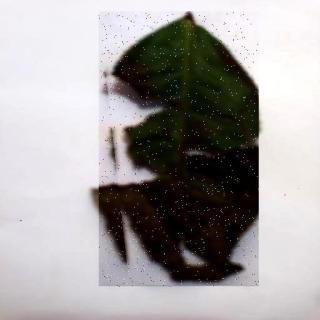Algal Leaf: (100, 13, 260, 288)
